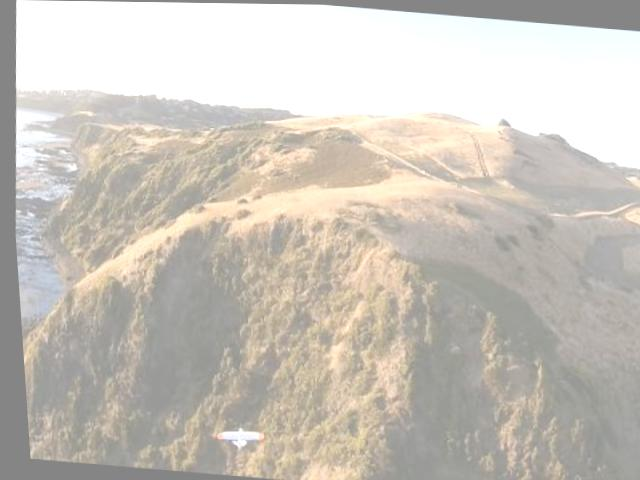uav: (206, 419, 266, 454)
